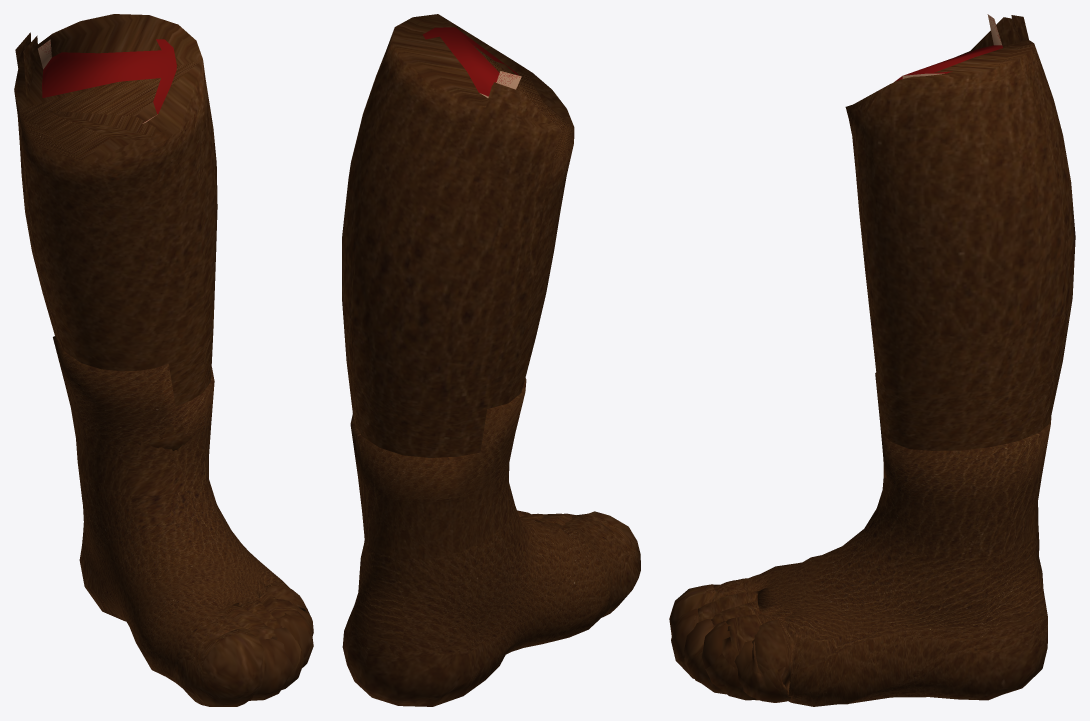
The model's file is SM_Part_F1_leg_l.gltf.
3 renders of one model, left to right at view 1: azimuth 30°, elevation 25°; view 2: azimuth 150°, elevation 25°; view 3: azimuth 270°, elevation 25°, orthographic. The views are drawn at different scales.
Parts seen in each view (by area): view 1: SM_Part_F1_leg_l; view 2: SM_Part_F1_leg_l; view 3: SM_Part_F1_leg_l.
Part boxes in pixels (<box>): SM_Part_F1_leg_l: <box>14,14,313,706</box>; SM_Part_F1_leg_l: <box>342,14,640,706</box>; SM_Part_F1_leg_l: <box>669,14,1075,706</box>.
Bounding box in the file's own units: 0.1592 × 0.4433 × 0.2594.
Materials: 4 (2 with a texture image).
